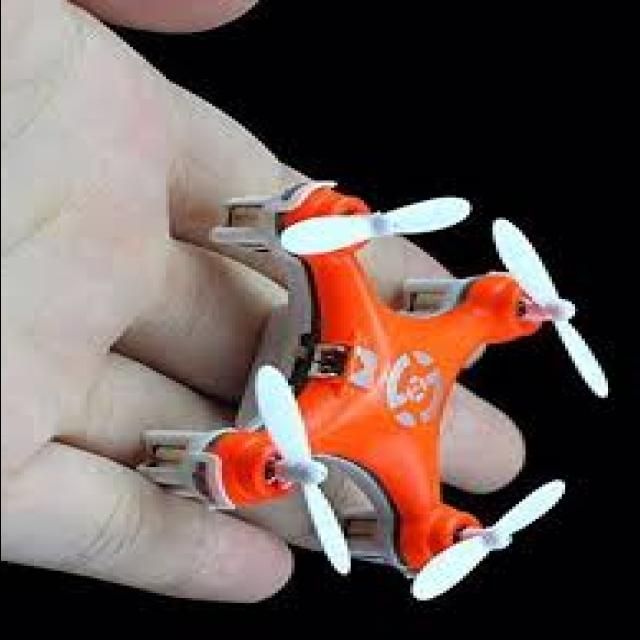drone: (137, 192, 632, 602)
